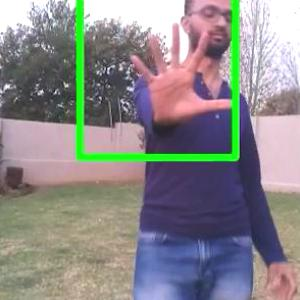follow_hand: (126, 16, 236, 128)
